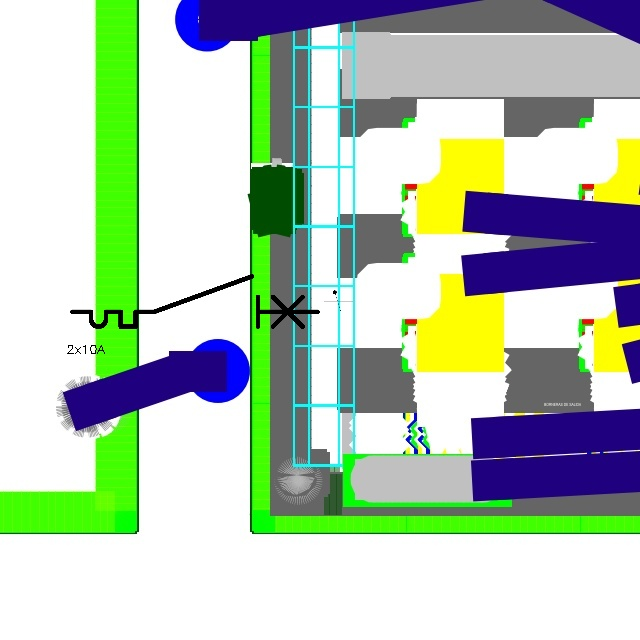interruptor_termomagnetico: (66, 270, 324, 333)
